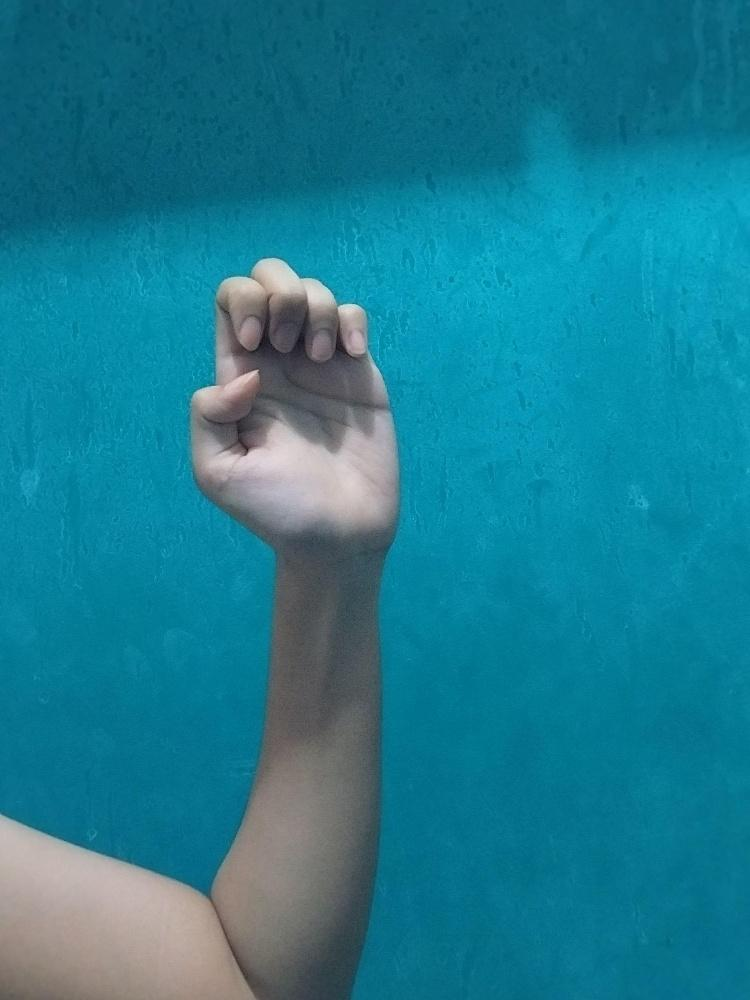e: (179, 249, 405, 557)
